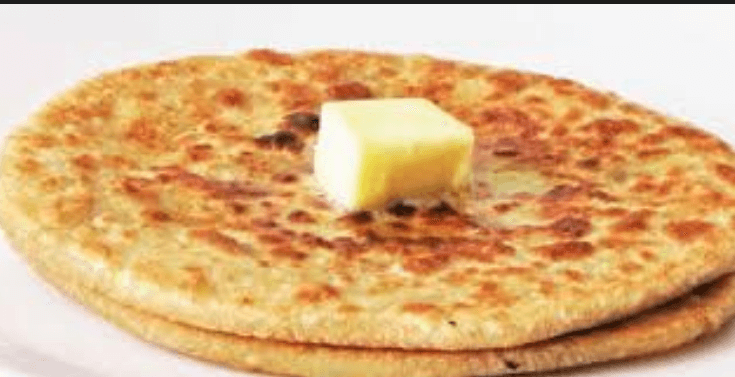aloo_paratha: (1, 42, 732, 376)
